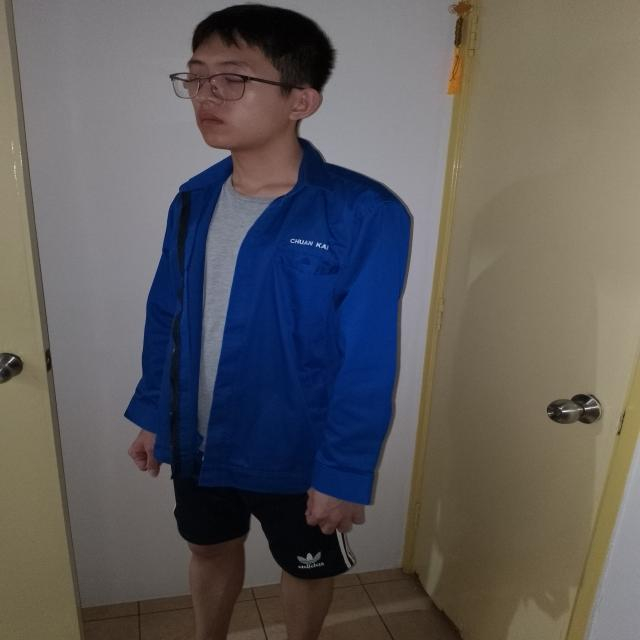person_with_labcoat: (125, 4, 410, 640)
